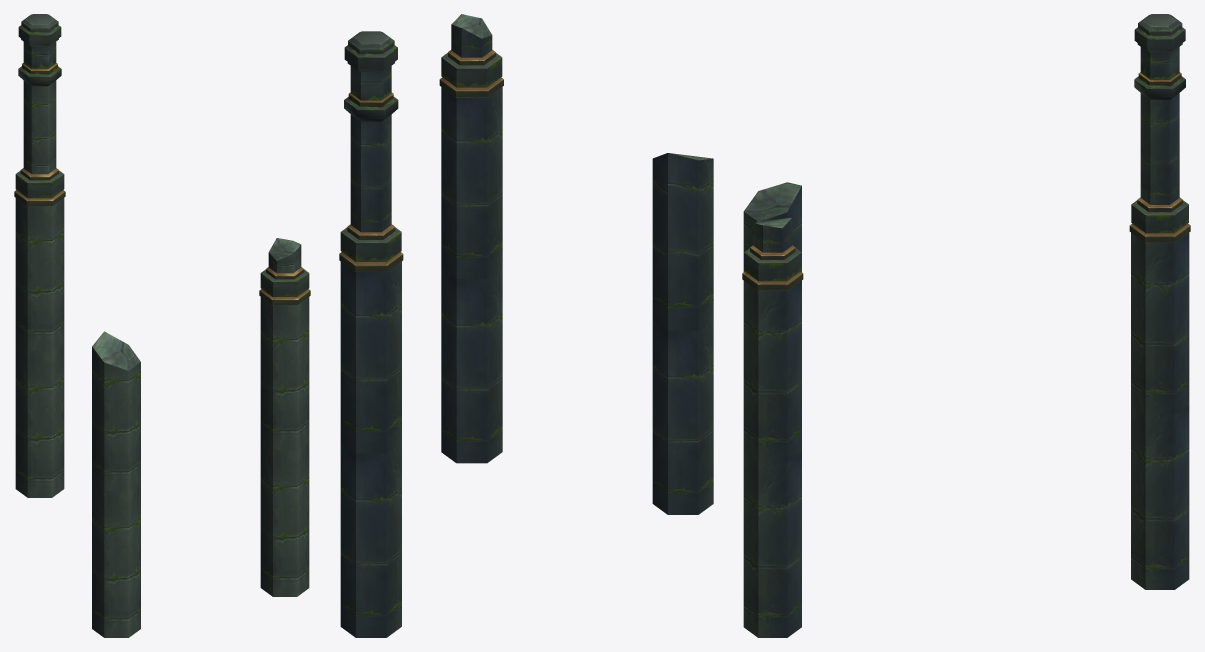
The model's file is FB0_yuanzhu01.FBX.
The picture shows the model from 3 angles, left to right: view 1: azimuth 30°, elevation 25°; view 2: azimuth 150°, elevation 25°; view 3: azimuth 270°, elevation 25°; orthographic projection. The views are drawn at different scales.
Parts seen in each view (by area): view 1: FB0_yuanzhu01_001, FB0_yuanzhu01_002, FB0_yuanzhu01_003; view 2: FB0_yuanzhu01_001, FB0_yuanzhu01_002, FB0_yuanzhu01_003; view 3: FB0_yuanzhu01_001, FB0_yuanzhu01_002, FB0_yuanzhu01_003.
Part boxes in pixels (bbox=[...]): FB0_yuanzhu01_001: bbox=[14, 14, 65, 497]; FB0_yuanzhu01_002: bbox=[259, 238, 310, 596]; FB0_yuanzhu01_003: bbox=[92, 331, 140, 637]; FB0_yuanzhu01_001: bbox=[339, 31, 403, 637]; FB0_yuanzhu01_002: bbox=[439, 14, 503, 463]; FB0_yuanzhu01_003: bbox=[652, 153, 713, 514]; FB0_yuanzhu01_001: bbox=[1129, 14, 1190, 589]; FB0_yuanzhu01_002: bbox=[742, 217, 803, 637]; FB0_yuanzhu01_003: bbox=[743, 182, 801, 271].
Size of the model in its own units: 2621 by 5712 by 4148.
1 material, 1 textured.
